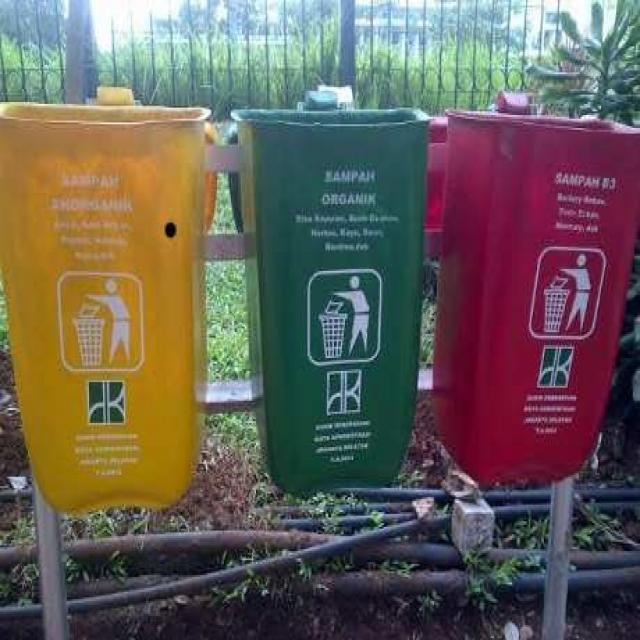Dumpster: (0, 85, 214, 508), (426, 92, 640, 492), (230, 89, 430, 496)
